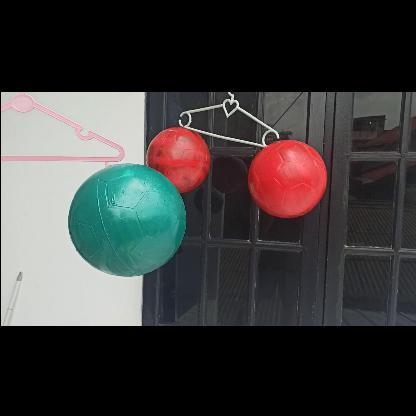red_ball: (248, 138, 326, 216)
